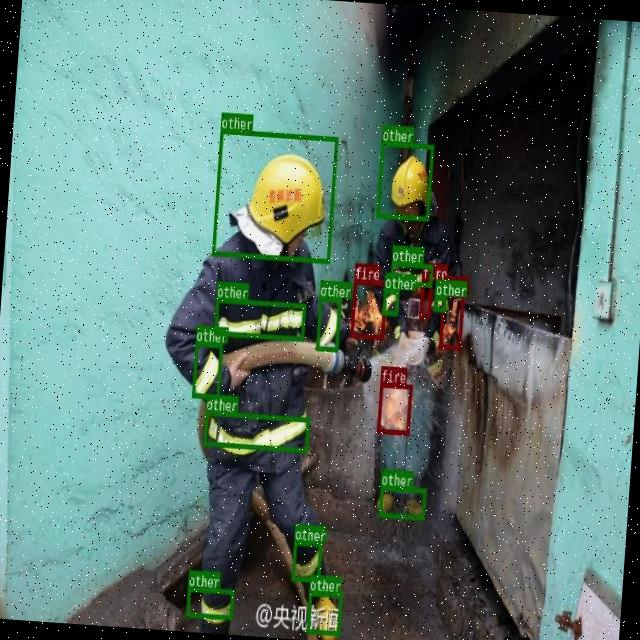fire: (349, 278, 386, 338), (376, 381, 411, 434), (438, 291, 464, 349), (418, 278, 432, 318)
